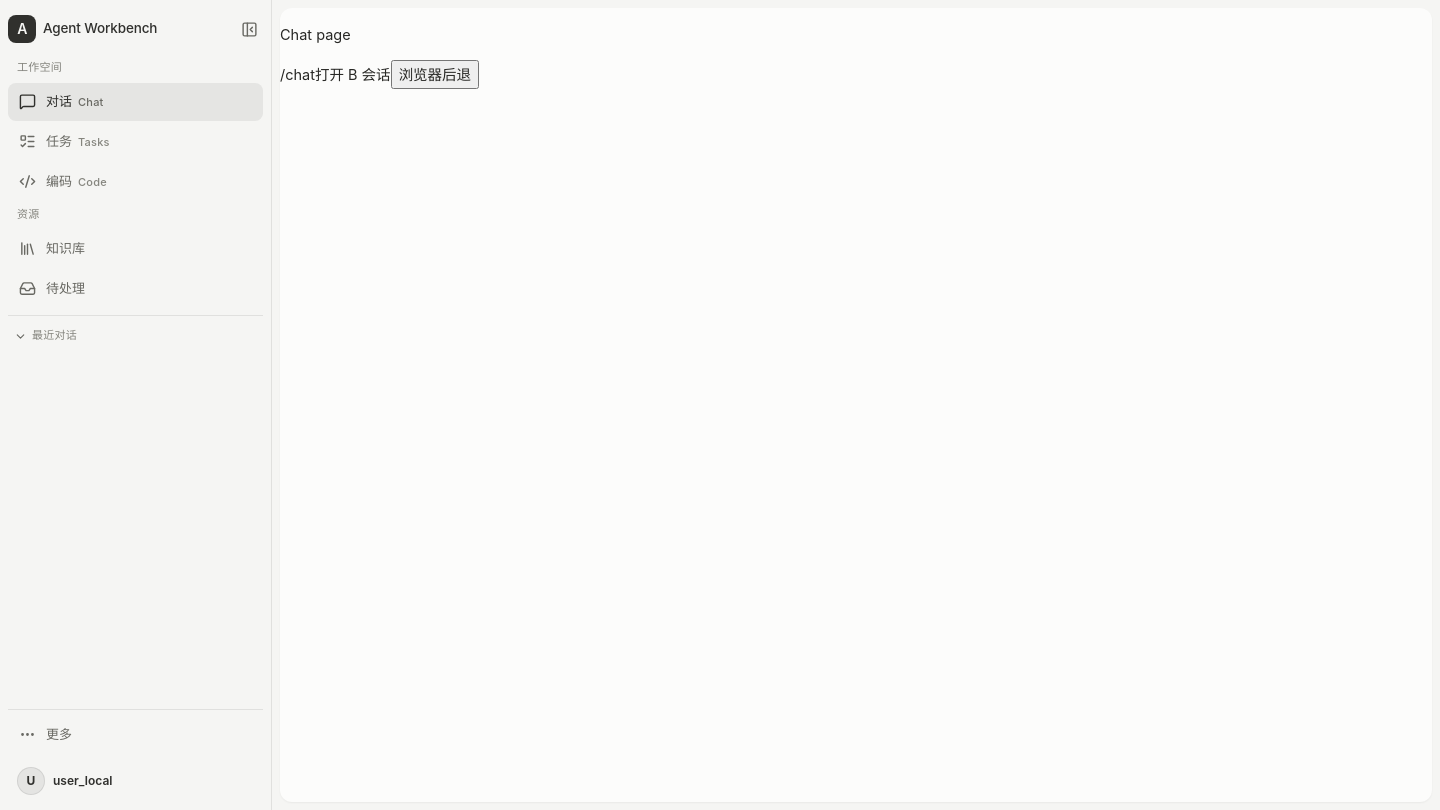
AppShell rail › 将低频工具收进更多，保持主导航安静
Expected: the link "知识库" is shown, [18,240,85,257]
Expected: the link "效果评测" is not shown
Click the button "更多".
click(136, 734)  # box [8,715,263,753]
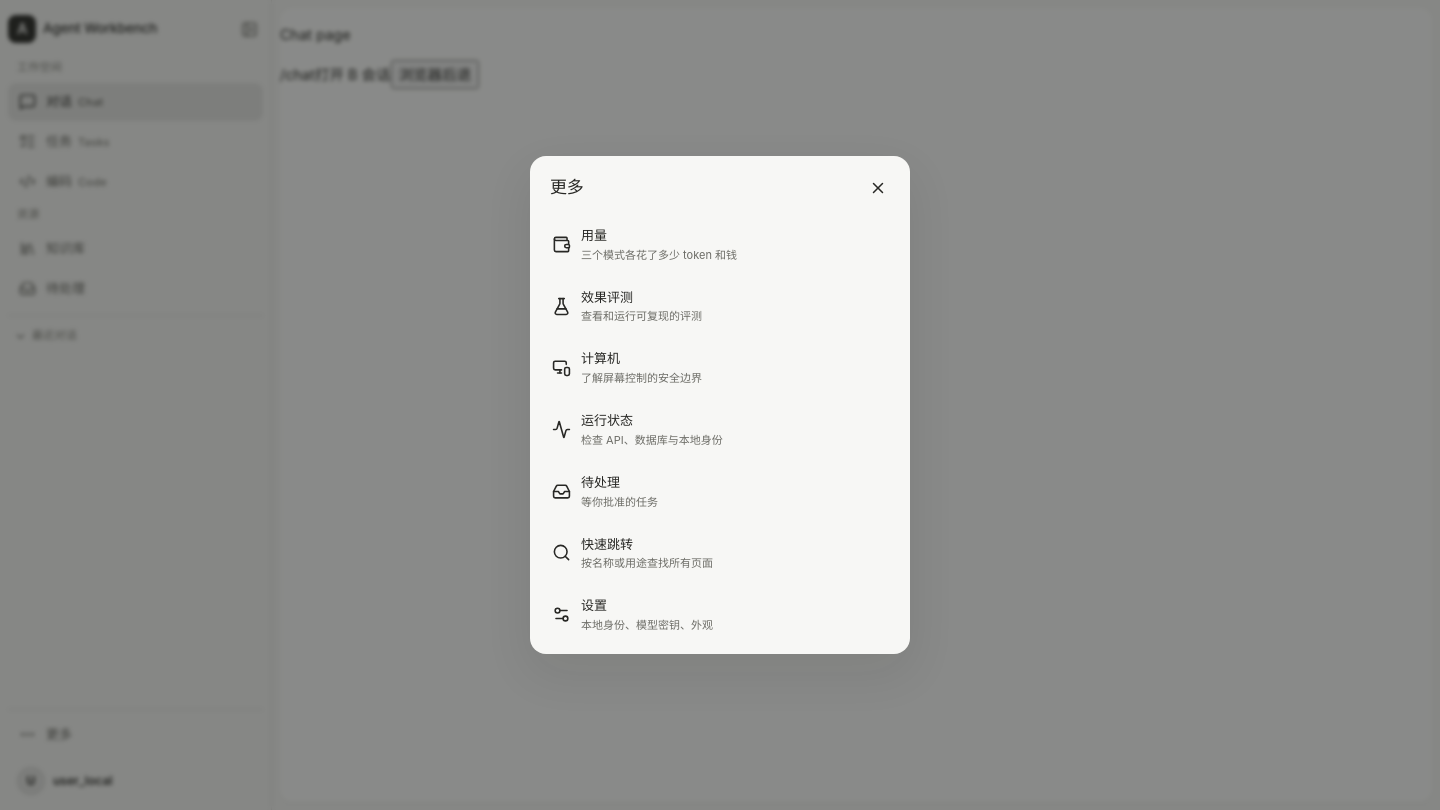
Expected: the link "效果评测 查看和运行可复现的评测" is shown, [552,289,702,324]
Expected: the link "运行状态 检查 API、数据库与本地身份" is shown, [552,412,723,447]
